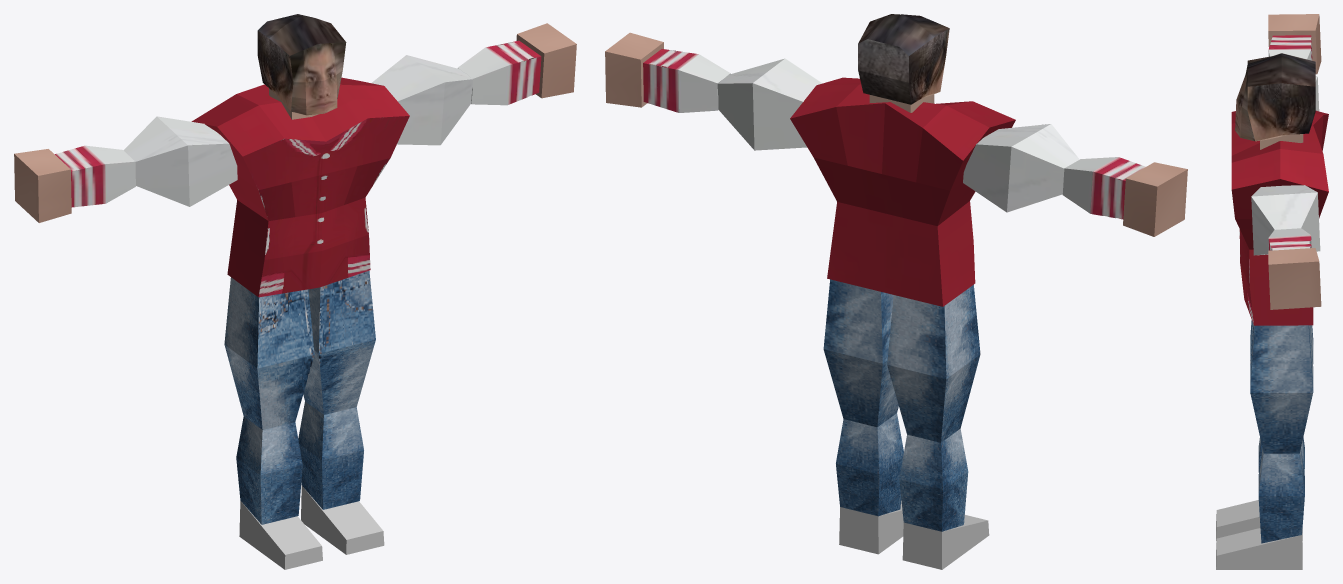
The model's file is Jose.fbx.
3 renders of one model, left to right at view 1: azimuth 30°, elevation 25°; view 2: azimuth 150°, elevation 25°; view 3: azimuth 270°, elevation 25°, orthographic. The views are drawn at different scales.
Parts seen in each view (by area): view 1: Cuerpo, PiernasIzquierda, PiernasDerecha, Cabeza, Antebrazos.001, Rodillas.001, Rodillas, Antebrazos, Brazos, Brazos.001, ManoIzquierda, PiesIzquierdo (+2 smaller); view 2: Cuerpo, PiernasIzquierda, PiernasDerecha, Antebrazos.001, Cabeza, Antebrazos, Rodillas.001, Rodillas, Brazos, ManoIzquierda, Brazos.001, PiesIzquierdo (+2 smaller); view 3: Cuerpo, PiernasDerecha, Cabeza, Rodillas, Antebrazos, ManosDerecha, PiesDerecho, ManoIzquierda, PiesIzquierdo, Brazos.001, Brazos, Cube (+2 smaller).
Part boxes in pixels (bbox=[...]): Cuerpo: bbox=[191, 77, 409, 297]; PiernasIzquierda: bbox=[224, 277, 314, 429]; PiernasDerecha: bbox=[303, 271, 375, 414]; Cabeza: bbox=[257, 14, 346, 115]; Antebrazos.001: bbox=[123, 116, 237, 206]; Rodillas.001: bbox=[236, 416, 302, 524]; Rodillas: bbox=[298, 401, 363, 509]; Antebrazos: bbox=[371, 55, 473, 145]; Brazos: bbox=[457, 40, 541, 105]; Brazos.001: bbox=[55, 145, 135, 207]; ManoIzquierda: bbox=[14, 149, 71, 222]; PiesIzquierdo: bbox=[239, 500, 322, 569]; Cuerpo: bbox=[790, 77, 1015, 306]; PiernasIzquierda: bbox=[887, 284, 980, 442]; PiernasDerecha: bbox=[823, 279, 898, 427]; Antebrazos.001: bbox=[963, 124, 1079, 212]; Cabeza: bbox=[858, 14, 949, 104]; Antebrazos: bbox=[717, 58, 822, 150]; Rodillas.001: bbox=[899, 429, 968, 531]; Rodillas: bbox=[836, 413, 903, 516]; Brazos: bbox=[643, 49, 730, 112]; ManoIzquierda: bbox=[1123, 162, 1187, 236]; Brazos.001: bbox=[1062, 157, 1145, 219]; PiesIzquierdo: bbox=[902, 515, 989, 569]; Cuerpo: bbox=[1231, 110, 1328, 325]; PiernasDerecha: bbox=[1250, 324, 1313, 453]; Cabeza: bbox=[1235, 53, 1315, 141]; Rodillas: bbox=[1258, 448, 1304, 543]; Antebrazos: bbox=[1251, 185, 1320, 255]; ManosDerecha: bbox=[1268, 248, 1321, 309]; PiesDerecho: bbox=[1216, 528, 1302, 569]; ManoIzquierda: bbox=[1268, 14, 1321, 74]; PiesIzquierdo: bbox=[1216, 500, 1302, 541]; Brazos.001: bbox=[1268, 35, 1312, 60]; Brazos: bbox=[1268, 228, 1311, 250]; Cube: bbox=[1260, 134, 1303, 149].
Bounding box in the file's own units: 218 × 200 × 41.63.
